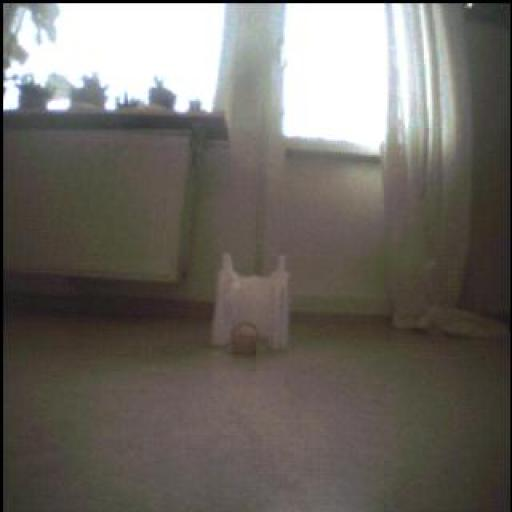Basket: (232, 323, 261, 358)
